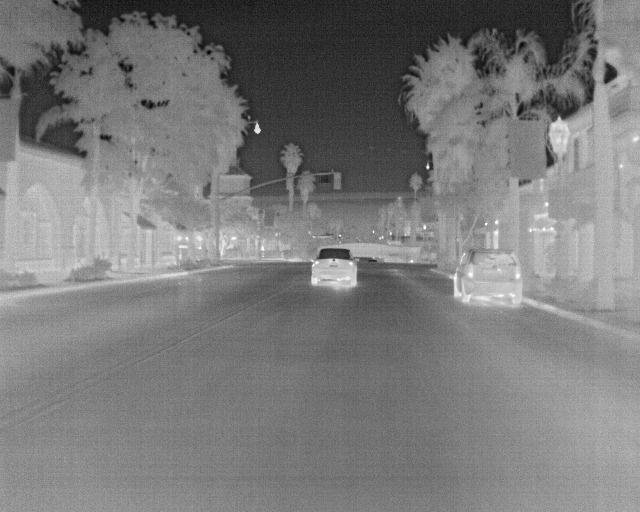car: (451, 245, 526, 308), (308, 246, 360, 289)
